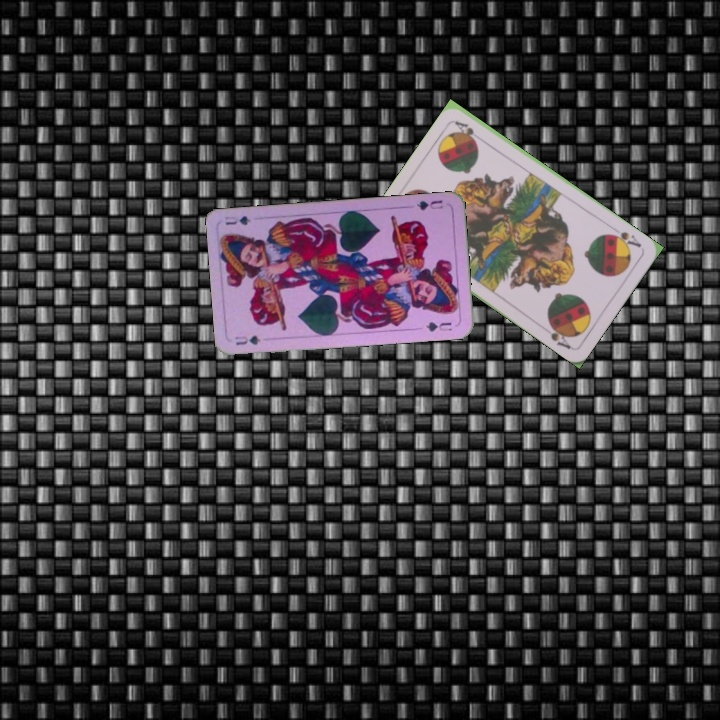GU: (413, 196, 445, 213), (231, 331, 263, 347)
SA: (605, 228, 644, 251)
